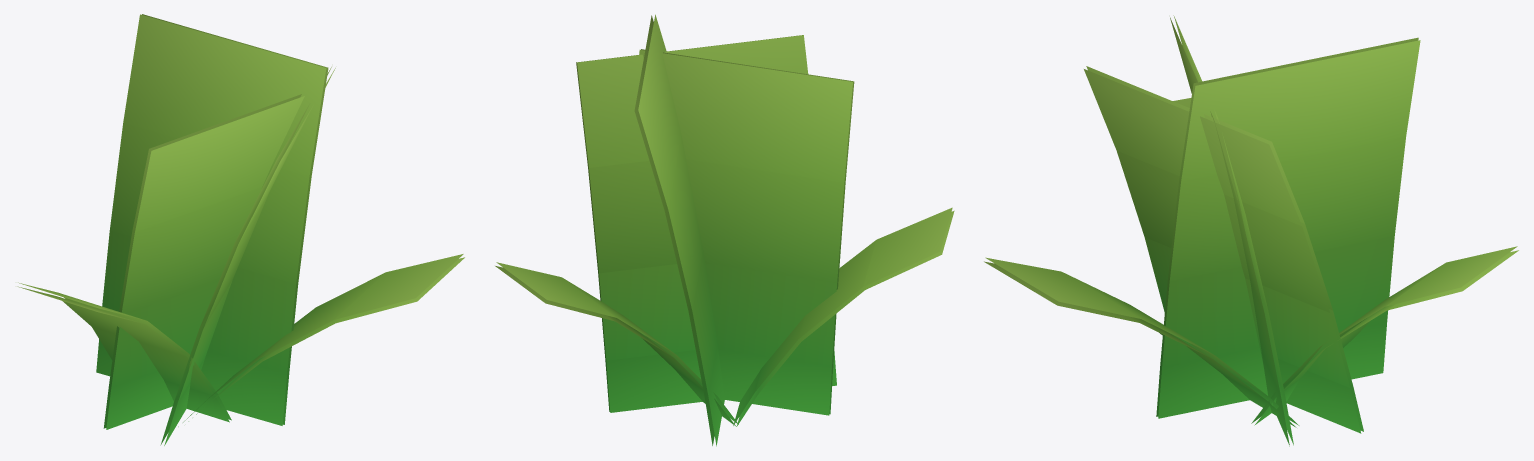
The model's file is grass_tuft_3.glb.
The picture shows the model from 3 angles, left to right: view 1: azimuth 30°, elevation 25°; view 2: azimuth 150°, elevation 25°; view 3: azimuth 270°, elevation 25°; orthographic projection. The views are drawn at different scales.
Visible parts, largest first — view 1: grass_tuft_3; view 2: grass_tuft_3; view 3: grass_tuft_3.
Boxes of the visible parts, bbox=[...] form: grass_tuft_3: bbox=[17, 14, 464, 445]; grass_tuft_3: bbox=[495, 14, 954, 446]; grass_tuft_3: bbox=[984, 15, 1518, 446].
Bounding box in the file's own units: 0.2702 × 0.2276 × 0.3018.
